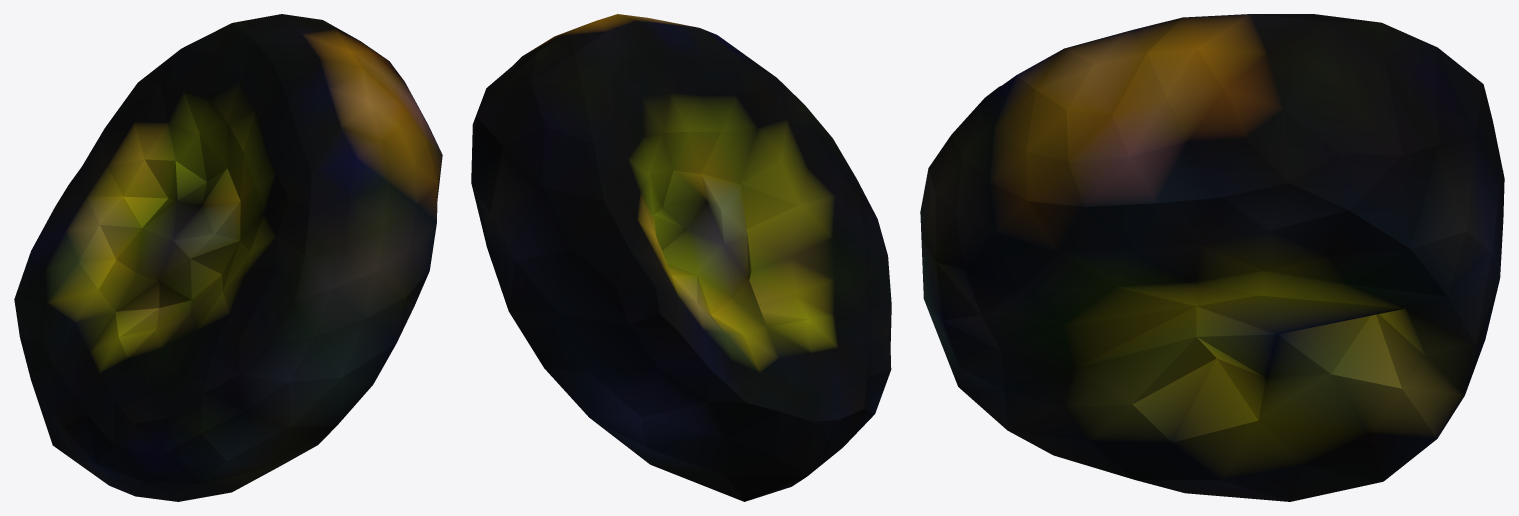
File: conti-tire.dae
The picture shows the model from 3 angles, left to right: view 1: azimuth 30°, elevation 25°; view 2: azimuth 150°, elevation 25°; view 3: azimuth 270°, elevation 25°; orthographic projection. The views are drawn at different scales.
Parts seen in each view (by area): view 1: node; view 2: node; view 3: node.
Boxes of the visible parts, <box> form: node: <box>14,14,442,501</box>; node: <box>471,14,891,501</box>; node: <box>920,14,1504,501</box>.
Size of the model in its own units: 0.2092 by 0.2324 by 0.2146.
